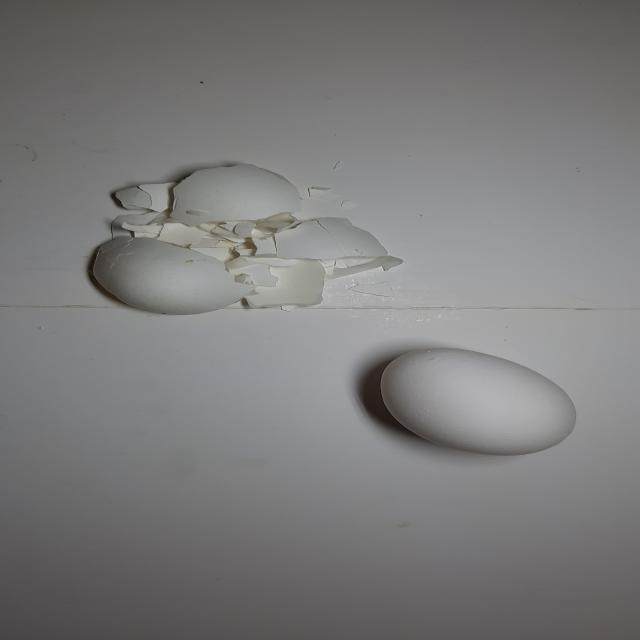egg shell: (378, 345, 582, 458), (80, 239, 246, 315), (264, 212, 410, 272), (171, 167, 301, 232), (224, 252, 333, 311), (108, 172, 170, 224)
